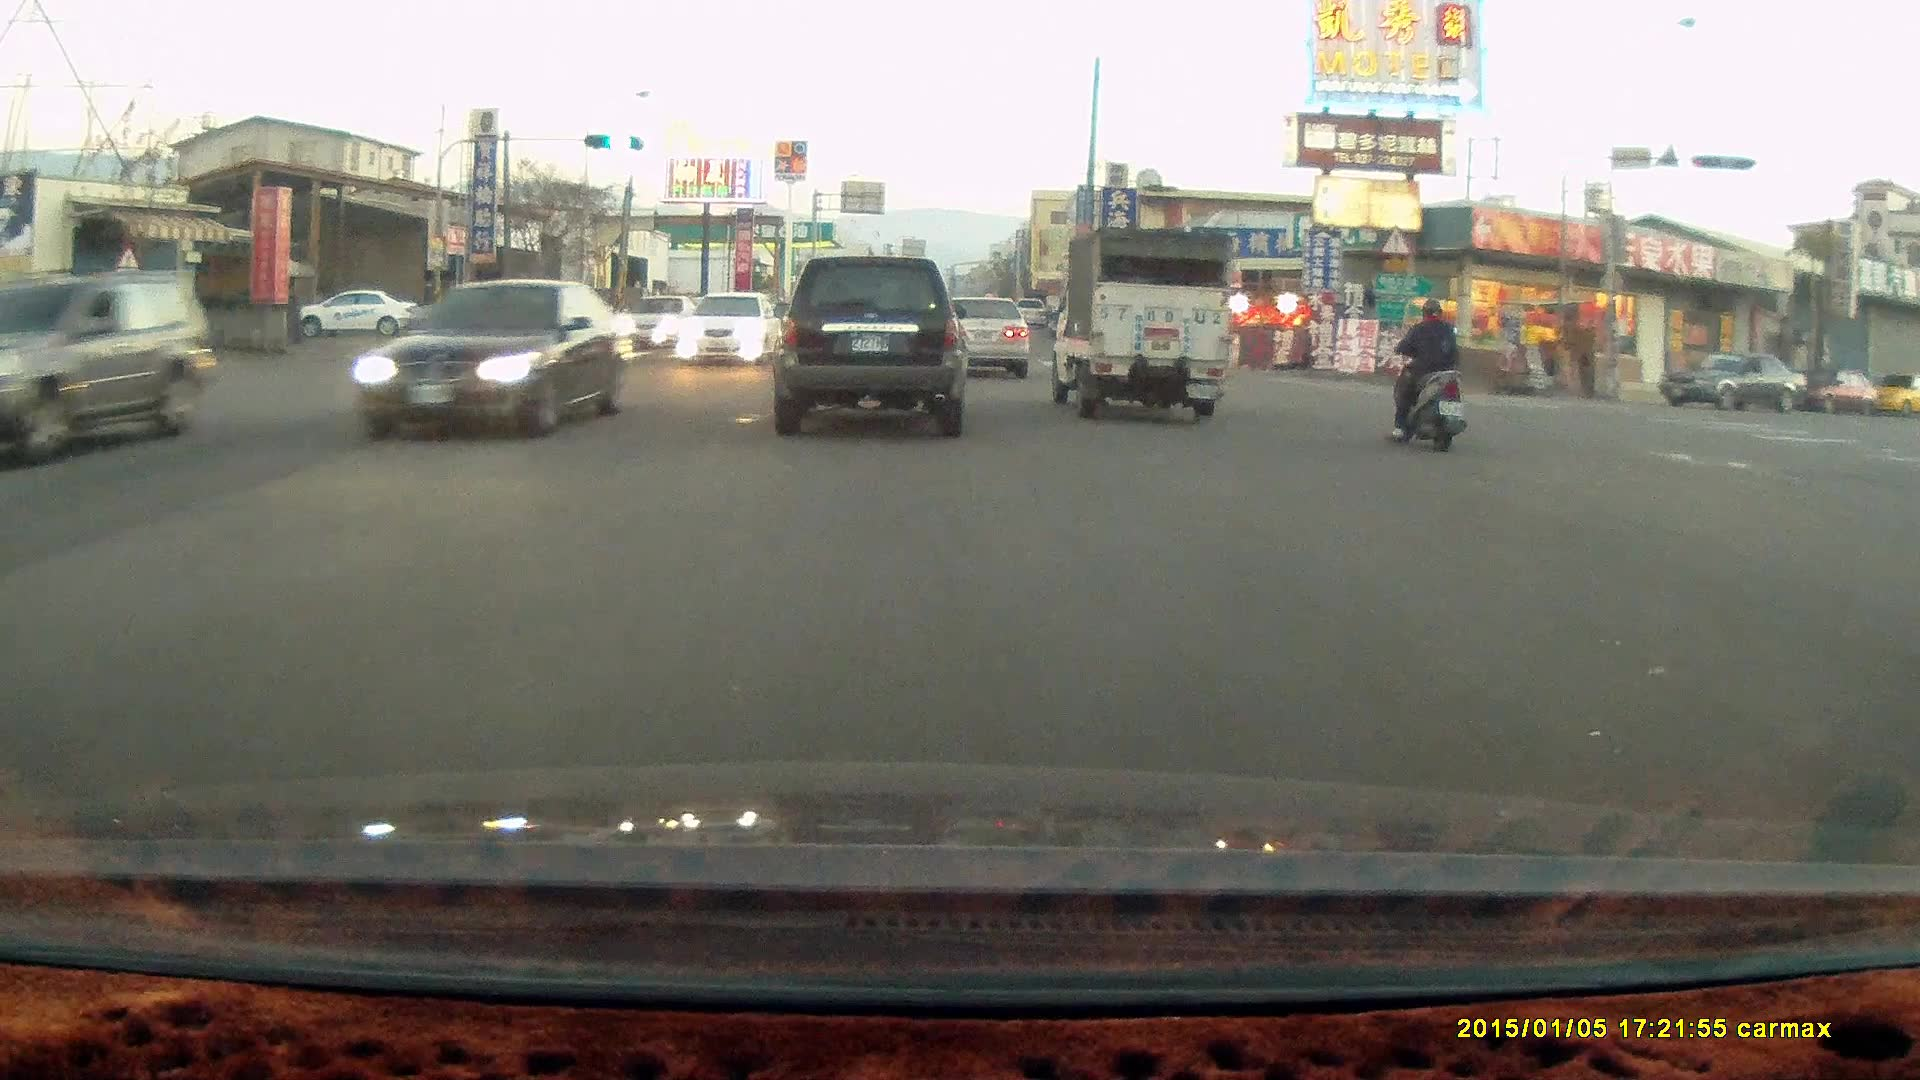rider: (1384, 294, 1469, 451)
vehicle: (346, 279, 635, 442), (1, 272, 227, 470), (1042, 226, 1230, 423), (769, 255, 969, 440), (427, 283, 561, 366), (1657, 352, 1810, 415), (926, 290, 1031, 379), (675, 289, 782, 368), (937, 297, 1032, 383), (301, 288, 422, 339), (1790, 369, 1880, 418), (1865, 376, 1920, 419)
